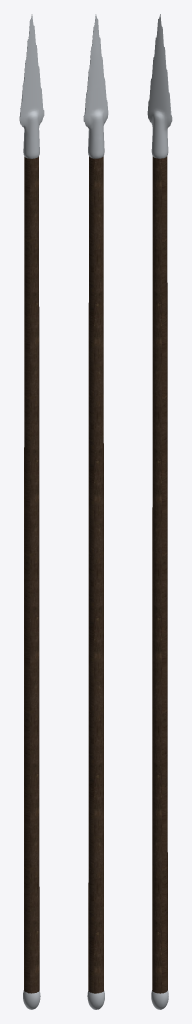
File: w-spear.glb
3 views of the same model, side by side, from view 1: azimuth 30°, elevation 25°; view 2: azimuth 210°, elevation 25°; view 3: azimuth 330°, elevation 25° (orthographic).
Visible parts, largest first — view 1: w-spear; view 2: w-spear; view 3: w-spear.
Part boxes in pixels (x1,y1,x2,y2): w-spear: (19, 14, 44, 1009); w-spear: (83, 14, 108, 1009); w-spear: (147, 14, 172, 1009).
Size of the model in its own units: 0.0568 by 2.22 by 0.0356.
Materials: 2 (1 with a texture image).
